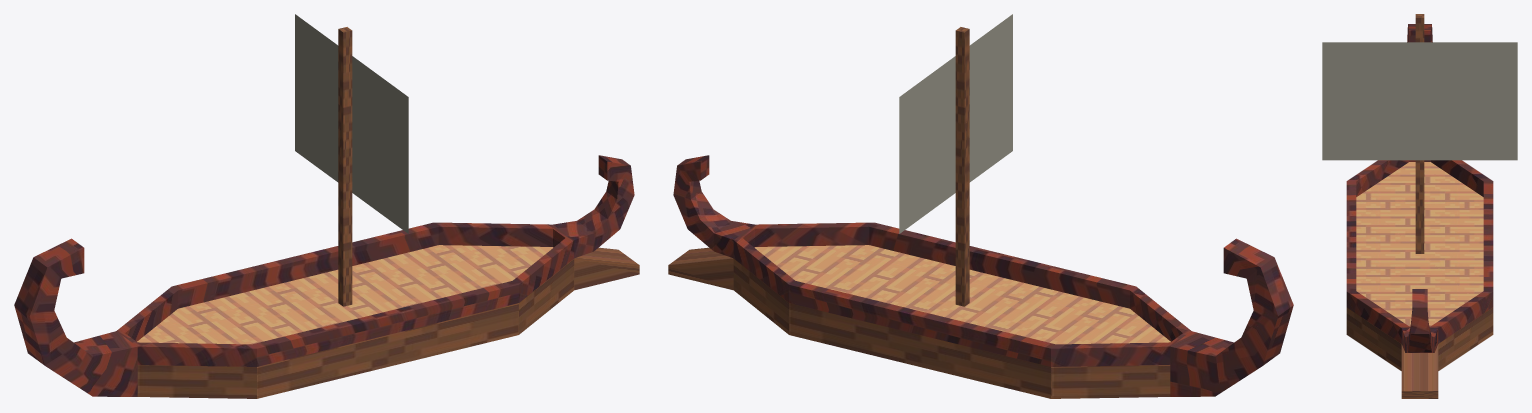
The model's file is Barco.fbx.
3 renders of one model, left to right at view 1: azimuth 30°, elevation 25°; view 2: azimuth 150°, elevation 25°; view 3: azimuth 270°, elevation 25°, orthographic. The views are drawn at different scales.
Visible parts, largest first — view 1: BarcoChico; view 2: BarcoChico; view 3: BarcoChico.
Boxes of the visible parts, left/top/right/bottom form: BarcoChico: left=14, top=14, right=639, bottom=398; BarcoChico: left=668, top=14, right=1293, bottom=398; BarcoChico: left=1322, top=14, right=1517, bottom=398.
Bounding box in the file's own units: 13904 × 6700 × 4500.
